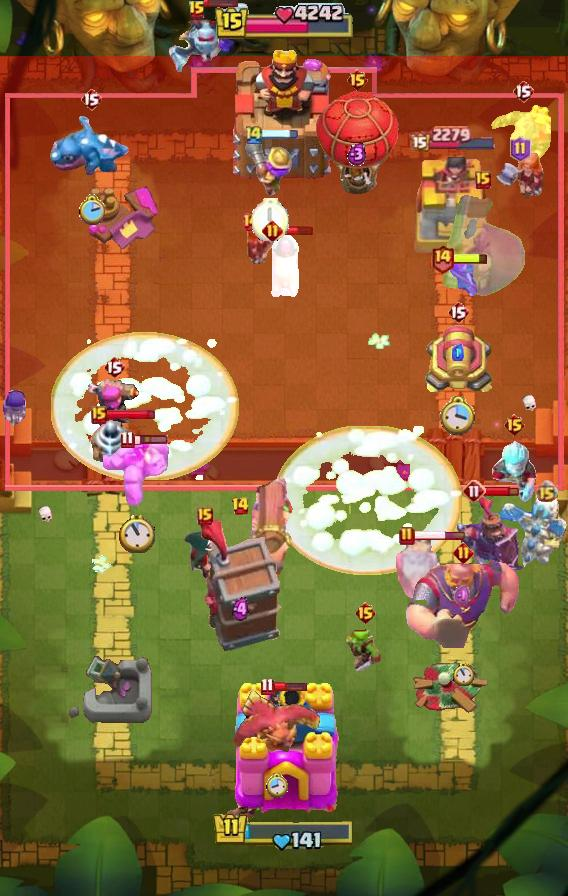battle-healer: (248, 468, 296, 582)
bomb-tower: (245, 136, 295, 200)
cannon: (442, 255, 480, 301)
cannon-cart: (314, 89, 400, 197)
clock: (212, 811, 356, 853), (213, 3, 355, 43)
dart-goblin: (198, 514, 282, 652)
electro-spirit: (347, 142, 367, 166), (231, 598, 248, 623), (454, 585, 472, 608), (452, 343, 464, 360)
elixir: (251, 199, 288, 242), (440, 396, 476, 437), (119, 514, 155, 553), (79, 195, 106, 225), (266, 773, 288, 799), (453, 662, 474, 686)
elixir-golem-big: (455, 492, 523, 586)
elixir-golem-small: (166, 0, 252, 78)
emote: (104, 408, 155, 421), (412, 530, 466, 541), (453, 251, 489, 264), (262, 128, 299, 140), (132, 434, 169, 446), (485, 485, 520, 497), (272, 680, 307, 692), (280, 224, 314, 235), (204, 0, 240, 8)
executioner: (269, 235, 301, 299)
goblin: (0, 389, 30, 427)
goblin-drill: (84, 418, 136, 474)
graveyard: (49, 114, 133, 178)
hog-rider: (493, 153, 547, 203), (245, 221, 289, 271)
king-tower: (222, 680, 346, 826), (229, 43, 339, 181)
lightning: (404, 558, 522, 648)
mini-pekka: (496, 492, 568, 572)
mortar: (488, 435, 540, 503)
mortar-evolution: (491, 100, 555, 172), (392, 534, 446, 600)
mother-witch: (229, 690, 325, 758)
phoenix-big: (272, 426, 463, 575), (51, 332, 239, 480)
queen-tower: (410, 154, 496, 256)
royal-recruit: (422, 324, 494, 398)
selected: (409, 125, 497, 152)
tesla: (182, 519, 228, 583)
text: (430, 242, 454, 273), (462, 479, 486, 503), (509, 136, 531, 162), (347, 68, 370, 92), (503, 413, 526, 437), (535, 480, 558, 504), (354, 601, 377, 625), (512, 79, 534, 103), (80, 87, 102, 111), (447, 300, 469, 324), (103, 355, 125, 379), (261, 219, 282, 240), (453, 541, 474, 562), (244, 124, 264, 145), (241, 212, 261, 232), (230, 496, 249, 516), (188, 0, 206, 20), (399, 526, 415, 546), (475, 171, 491, 189), (91, 406, 107, 424), (197, 507, 213, 525), (121, 430, 135, 449), (261, 677, 275, 695)
tombstone: (85, 377, 143, 431)
valkyrie-evolution: (103, 436, 171, 508)
wall-breaker-evolution: (441, 181, 525, 299)
zap: (341, 625, 389, 671)
